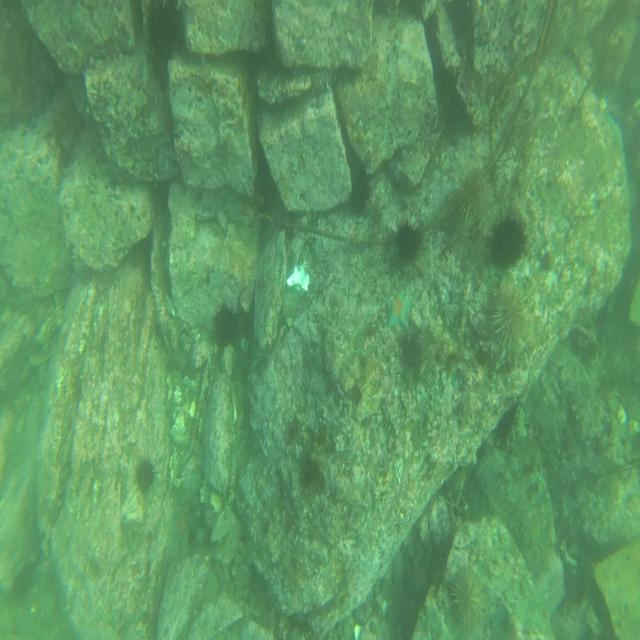echinus: (491, 277, 539, 365), (447, 558, 491, 640), (454, 154, 496, 222), (490, 203, 530, 270), (140, 0, 177, 72), (394, 215, 426, 273), (212, 296, 240, 352), (134, 448, 160, 497)
scallop: (284, 261, 310, 297)
starfish: (384, 282, 412, 332), (168, 499, 192, 545), (407, 556, 430, 599)
